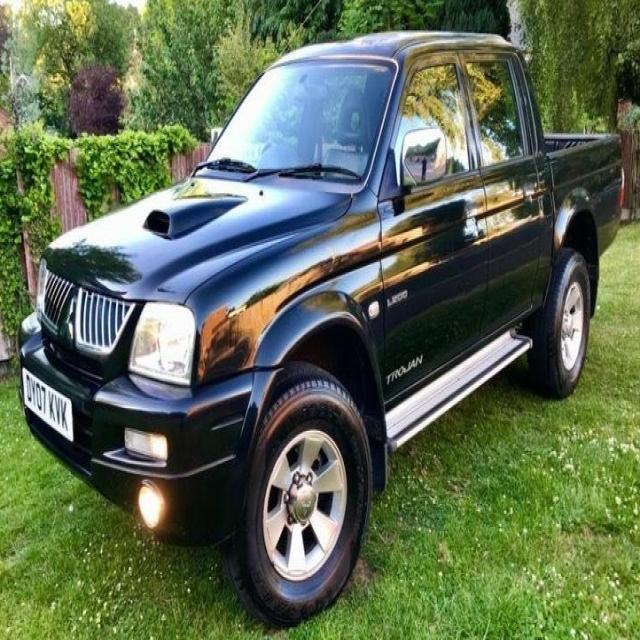CMT: (13, 31, 624, 614)
